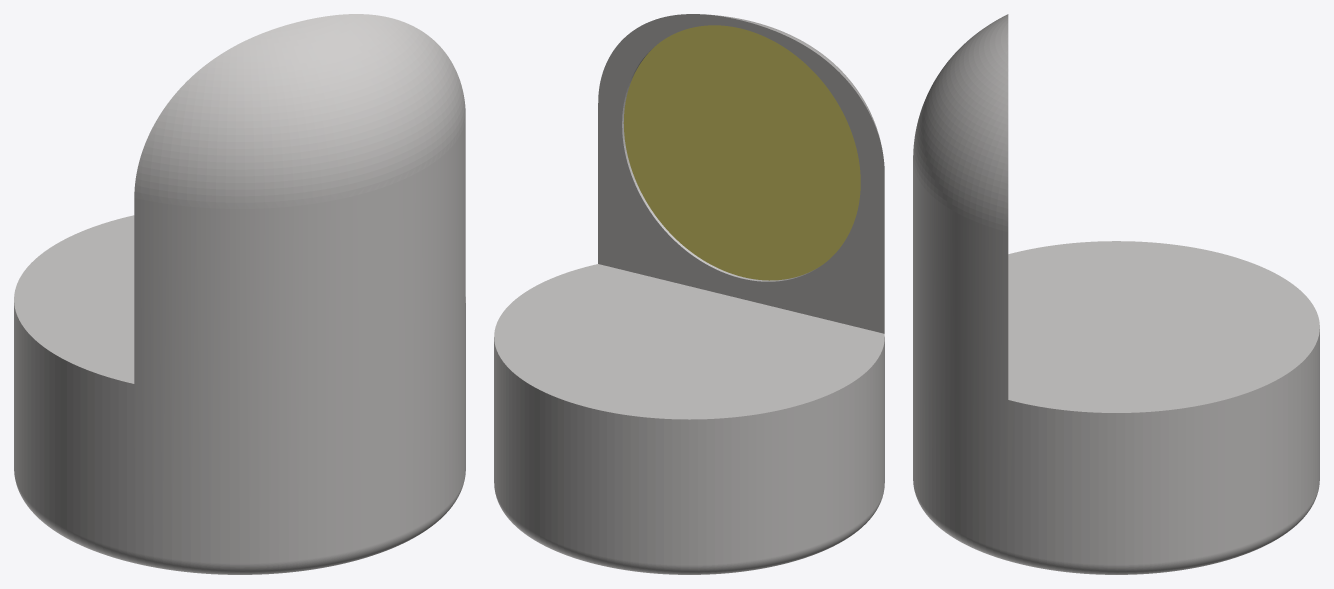
The model's file is arm5.dae.
3 views of the same model, side by side, from view 1: azimuth 30°, elevation 25°; view 2: azimuth 150°, elevation 25°; view 3: azimuth 270°, elevation 25° (orthographic). The views are drawn at different scales.
Parts seen in each view (by area): view 1: Arm5; view 2: Arm5; view 3: Arm5.
Boxes of the visible parts, x1,y1,x2,y2 form: Arm5: (14, 14, 465, 574); Arm5: (494, 14, 884, 574); Arm5: (913, 14, 1319, 574).
Bounding box in the file's own units: 0.1134 × 0.1134 × 0.1408.
2 materials, 2 textured.
